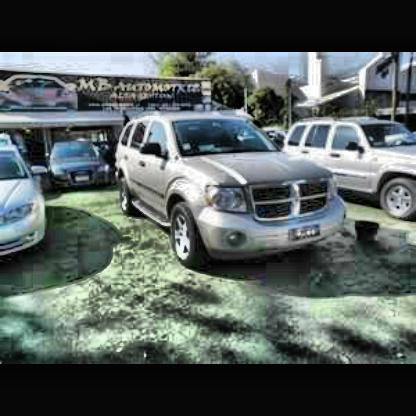Dodge Durango SUV 2007: (114, 111, 352, 273)
